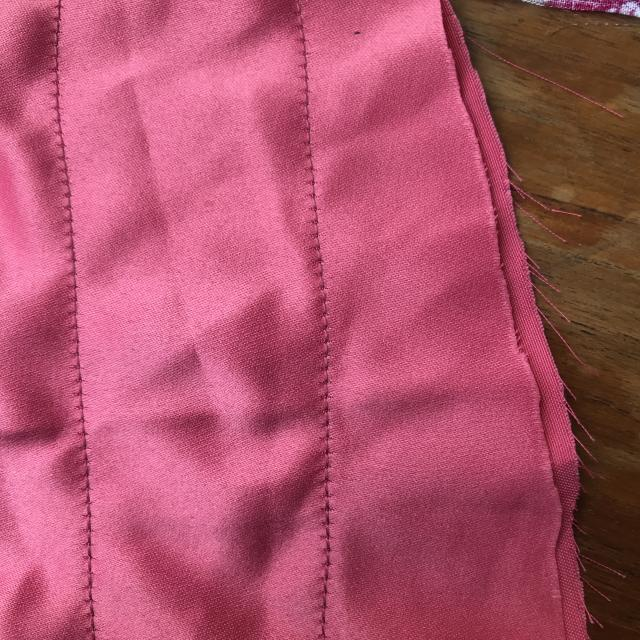good: (296, 189, 356, 365)
